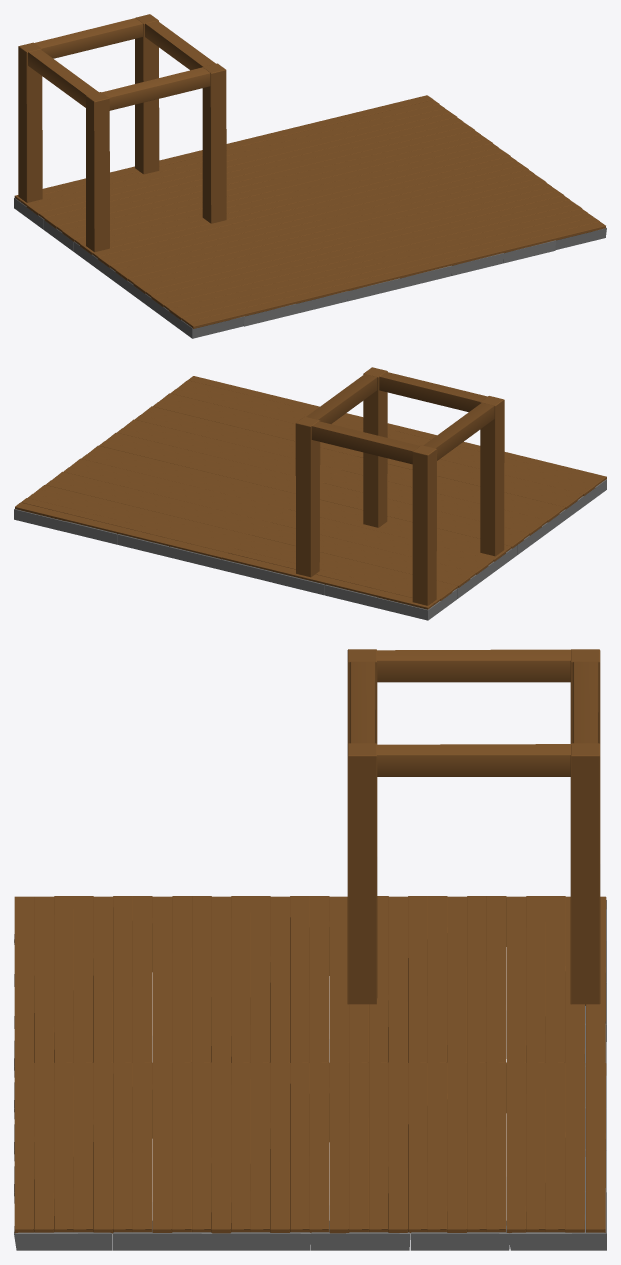
Rendered from SM_StoneCutter_Construction.fbx.
3 renders of one model, top to bottom at view 1: azimuth 30°, elevation 25°; view 2: azimuth 150°, elevation 25°; view 3: azimuth 270°, elevation 25°, orthographic. The views are drawn at different scales.
Parts seen in each view (by area): view 1: SM_Stone_Cutter; view 2: SM_Stone_Cutter; view 3: SM_Stone_Cutter.
Part boxes in pixels (bbox=[...]): SM_Stone_Cutter: bbox=[14, 14, 606, 338]; SM_Stone_Cutter: bbox=[14, 367, 606, 620]; SM_Stone_Cutter: bbox=[14, 649, 606, 1250].
Size of what is drawn, in the model's own units: 800 by 600 by 302.
